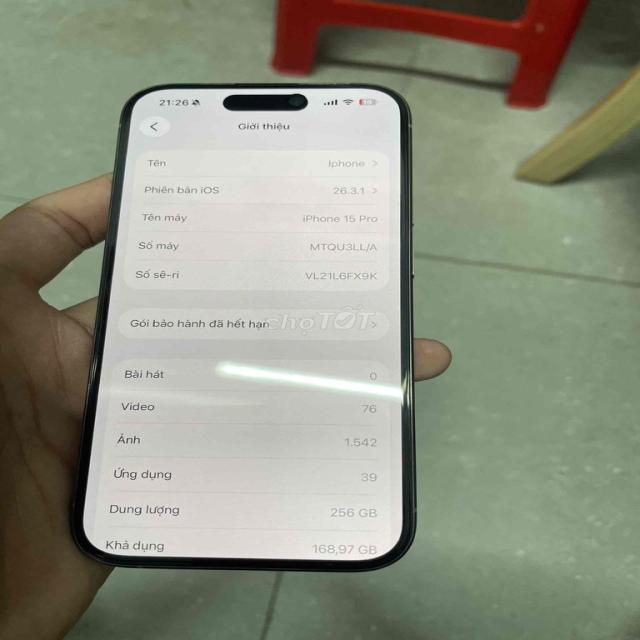scratch: (292, 77, 363, 88)
